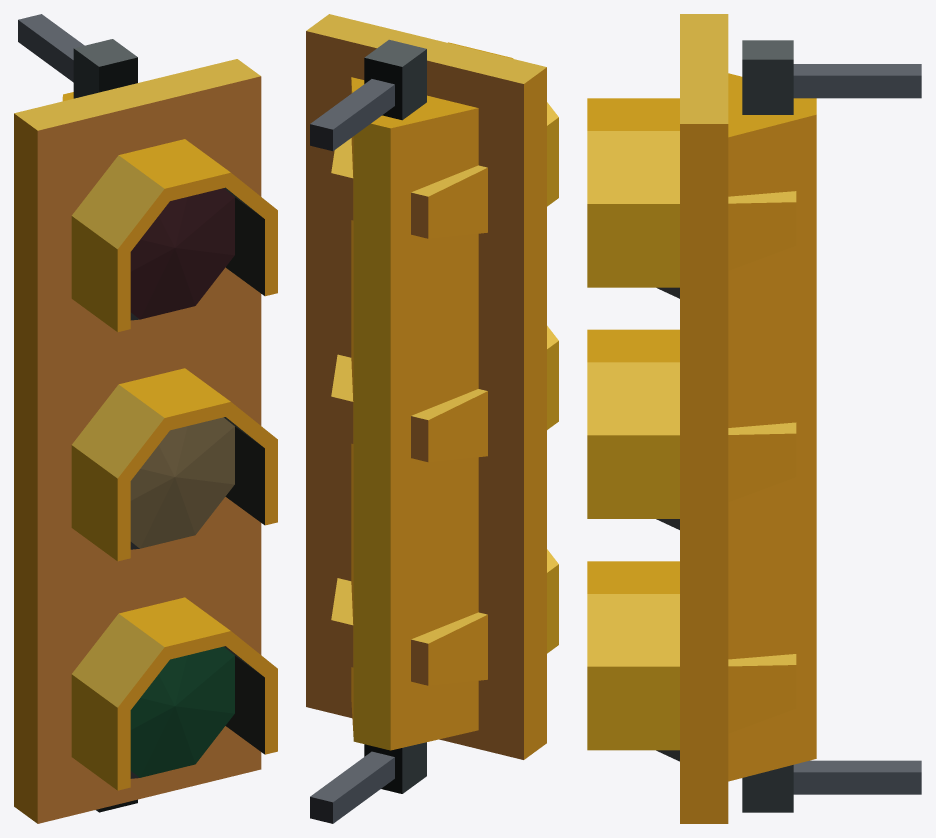
The model's file is TB_CITY_Prop_TrafficLight_A_Yellow.FBX.
3 renders of one model, left to right at view 1: azimuth 30°, elevation 25°; view 2: azimuth 150°, elevation 25°; view 3: azimuth 270°, elevation 25°, orthographic. The views are drawn at different scales.
Parts seen in each view (by area): view 1: TB_CITY_Prop_TrafficLight_A_Yellow; view 2: TB_CITY_Prop_TrafficLight_A_Yellow; view 3: TB_CITY_Prop_TrafficLight_A_Yellow.
Part boxes in pixels (left/top/right/bottom): TB_CITY_Prop_TrafficLight_A_Yellow: left=14, top=14, right=277, bottom=823; TB_CITY_Prop_TrafficLight_A_Yellow: left=306, top=14, right=558, bottom=823; TB_CITY_Prop_TrafficLight_A_Yellow: left=587, top=14, right=921, bottom=823.
Bounding box in the file's own units: 1.03 × 3.27 × 1.32.
